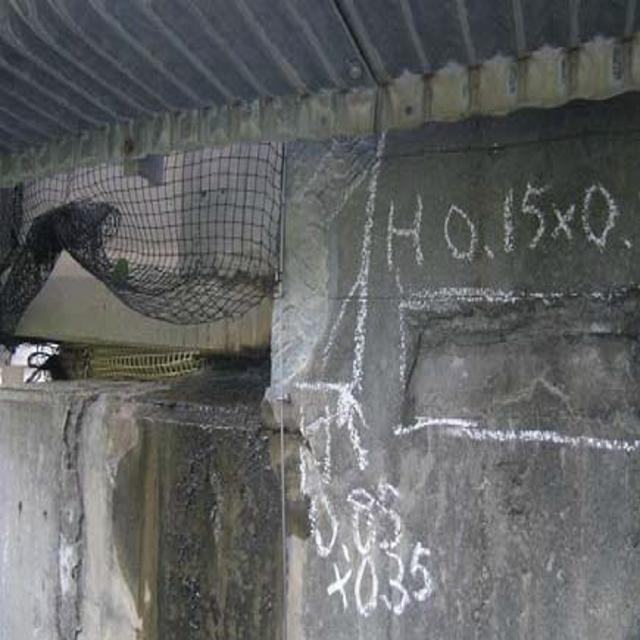leakage: (127, 348, 307, 640)
